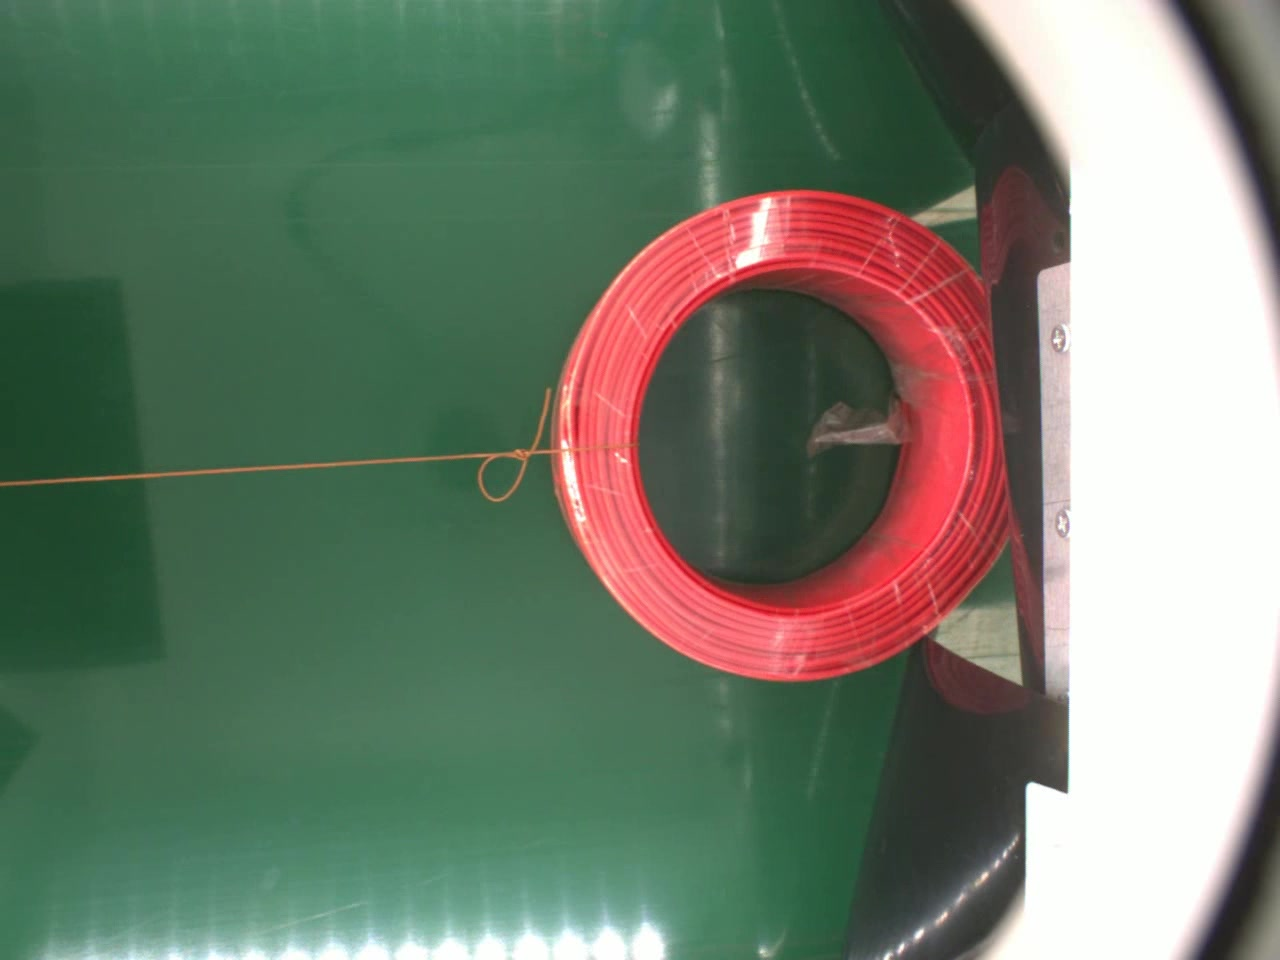red: (553, 184, 1009, 689)
